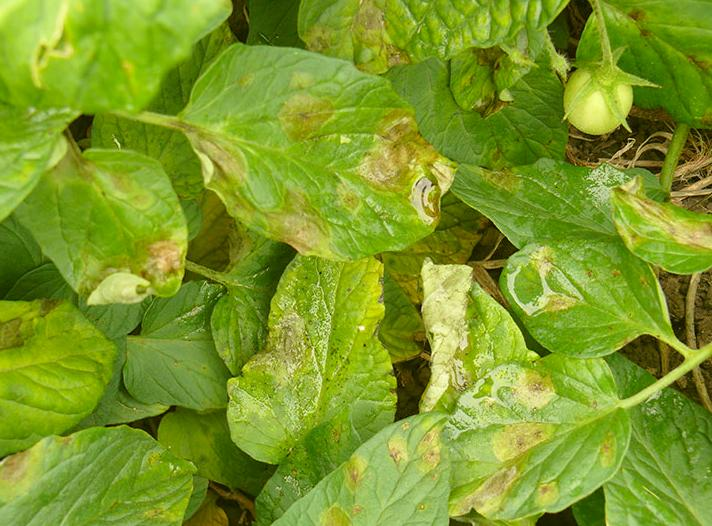Tomato leaf late blight: (180, 28, 452, 276), (139, 365, 477, 526), (240, 234, 432, 496), (13, 108, 200, 344), (417, 340, 651, 526), (494, 230, 689, 370), (0, 282, 128, 471), (0, 408, 202, 526), (595, 161, 712, 283)
